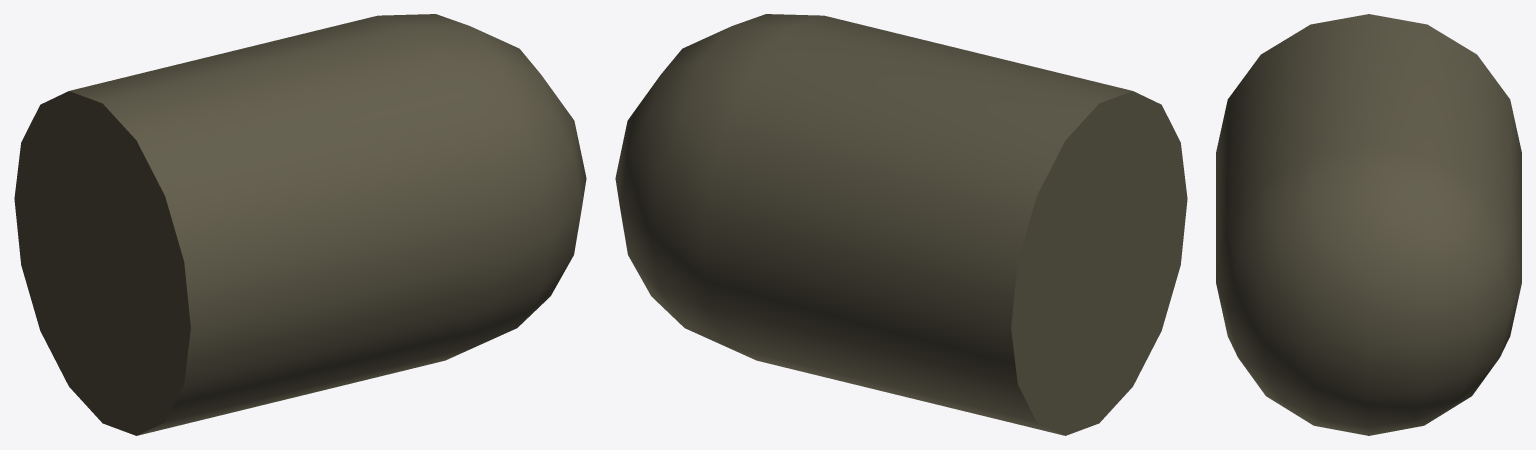
File: SMA_Bullet.fbx
The picture shows the model from 3 angles, left to right: view 1: azimuth 30°, elevation 25°; view 2: azimuth 150°, elevation 25°; view 3: azimuth 270°, elevation 25°; orthographic projection. The views are drawn at different scales.
Parts seen in each view (by area): view 1: Bullet; view 2: Bullet; view 3: Bullet.
Part boxes in pixels (x1=…): Bullet: x1=14, y1=14, x2=586, y2=435; Bullet: x1=615, y1=14, x2=1187, y2=435; Bullet: x1=1216, y1=14, x2=1521, y2=435.
Size of the model in its own units: 0.3662 by 0.2425 by 0.2425.
